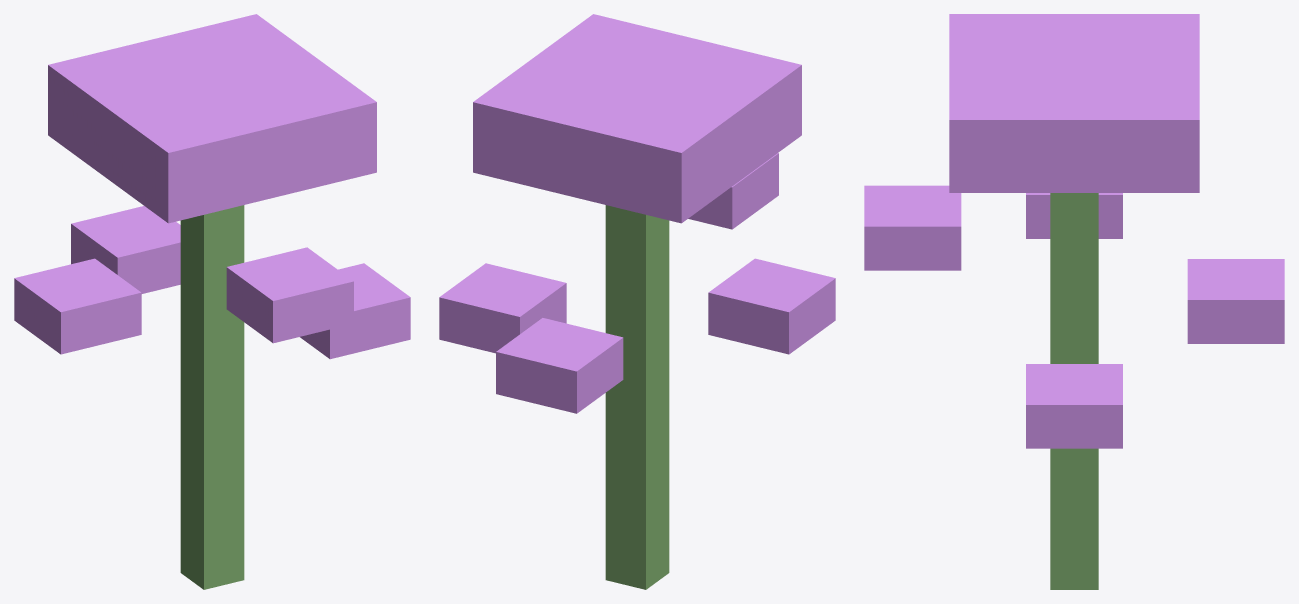
The model's file is Prop_DS_Herb_SwapRoot_S3.glb.
3 renders of one model, left to right at view 1: azimuth 30°, elevation 25°; view 2: azimuth 150°, elevation 25°; view 3: azimuth 270°, elevation 25°, orthographic. The views are drawn at different scales.
Visible parts, largest first — view 1: Cube.005, Cube, Cube.003, Cube.004, Cube.002, Cube.001; view 2: Cube.005, Cube, Cube.003, Cube.002, Cube.001, Cube.004; view 3: Cube.005, Cube, Cube.004, Cube.002, Cube.001, Cube.003.
Boxes of the visible parts, x1=… form: Cube.005: x1=48, y1=14, x2=376, y2=223; Cube: x1=180, y1=205, x2=244, y2=589; Cube.003: x1=14, y1=258, x2=141, y2=354; Cube.004: x1=226, y1=247, x2=353, y2=343; Cube.002: x1=71, y1=206, x2=180, y2=293; Cube.001: x1=300, y1=263, x2=410, y2=359; Cube.005: x1=473, y1=14, x2=801, y2=223; Cube: x1=605, y1=205, x2=669, y2=589; Cube.003: x1=708, y1=258, x2=835, y2=354; Cube.002: x1=496, y1=318, x2=623, y2=413; Cube.001: x1=439, y1=263, x2=566, y2=353; Cube.004: x1=688, y1=153, x2=778, y2=229; Cube.005: x1=949, y1=14, x2=1199, y2=192; Cube: x1=1050, y1=193, x2=1098, y2=589; Cube.004: x1=864, y1=185, x2=961, y2=270; Cube.002: x1=1187, y1=259, x2=1284, y2=343; Cube.001: x1=1026, y1=364, x2=1122, y2=448; Cube.003: x1=1026, y1=193, x2=1122, y2=238.
Size of the model in its own units: 0.52 by 0.7 by 0.52.
